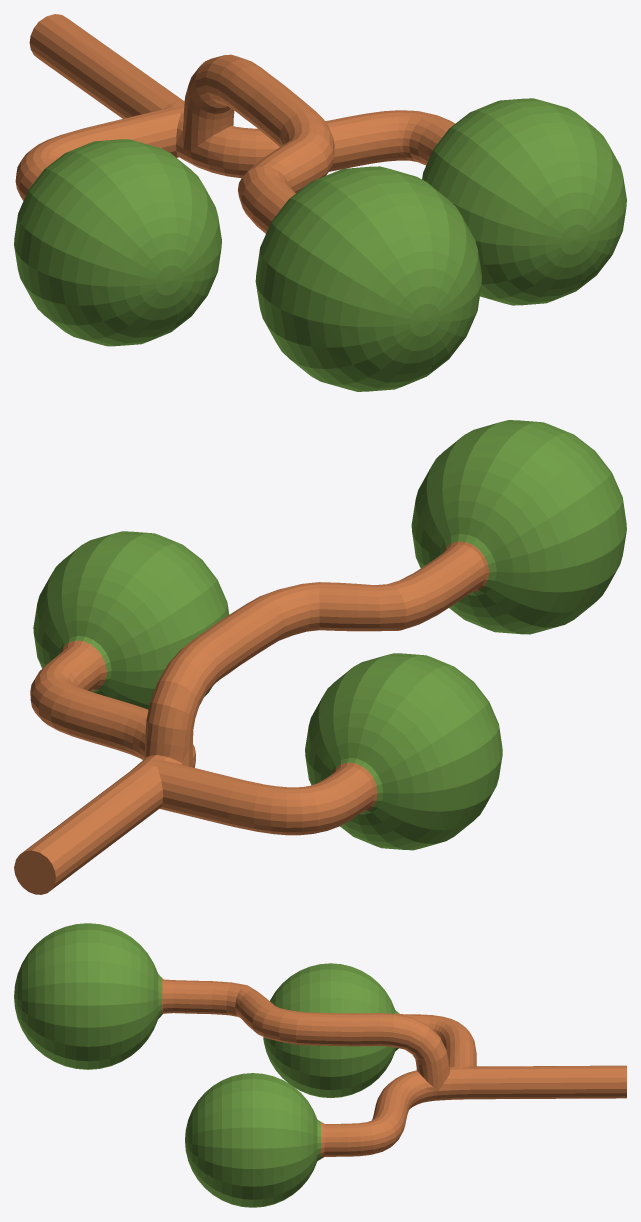
The model's file is pohon.obj.
3 renders of one model, top to bottom at view 1: azimuth 30°, elevation 25°; view 2: azimuth 150°, elevation 25°; view 3: azimuth 270°, elevation 25°, orthographic. The views are drawn at different scales.
Parts seen in each view (by area): view 1: Object.1; view 2: Object.1; view 3: Object.1.
Boxes of the visible parts, x1,y1,x2,y2 form: Object.1: (14, 14, 626, 391); Object.1: (14, 420, 626, 894); Object.1: (14, 923, 626, 1207).
Size of the model in its own units: 0.3306 by 0.169 by 0.512.
1 material, 1 textured.
